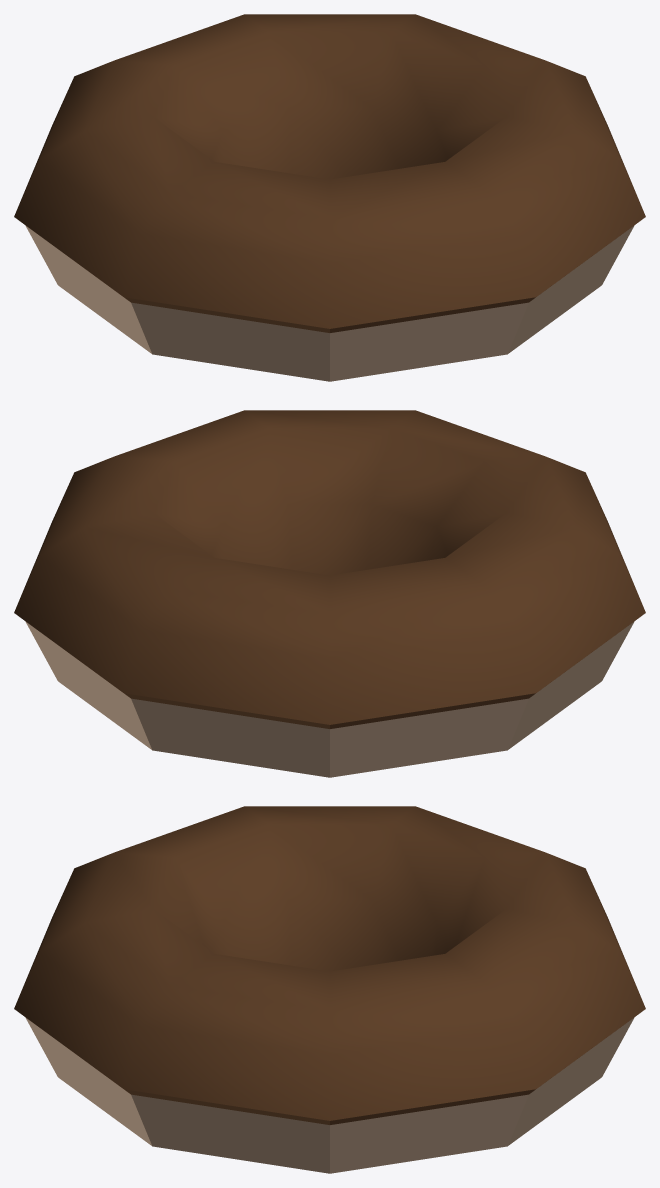
File: Simple_Donut.fbx
3 views of the same model, one above another, from view 1: azimuth 30°, elevation 25°; view 2: azimuth 150°, elevation 25°; view 3: azimuth 270°, elevation 25° (orthographic).
Visible parts, largest first — view 1: Simple_Donut; view 2: Simple_Donut; view 3: Simple_Donut.
Part boxes in pixels (x1=…): Simple_Donut: x1=14, y1=14, x2=645, y2=381; Simple_Donut: x1=14, y1=410, x2=645, y2=777; Simple_Donut: x1=14, y1=806, x2=645, y2=1173.
Size of the model in its own units: 0.1513 by 0.1536 by 0.0474.
